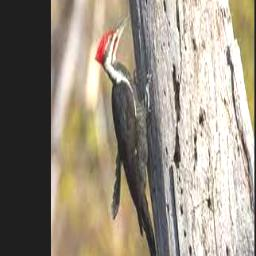Woodpecker: (95, 13, 160, 256)
